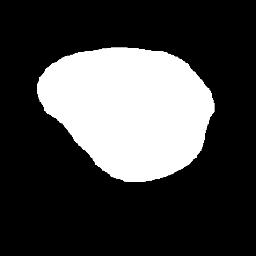mass: (43, 49, 215, 169)
